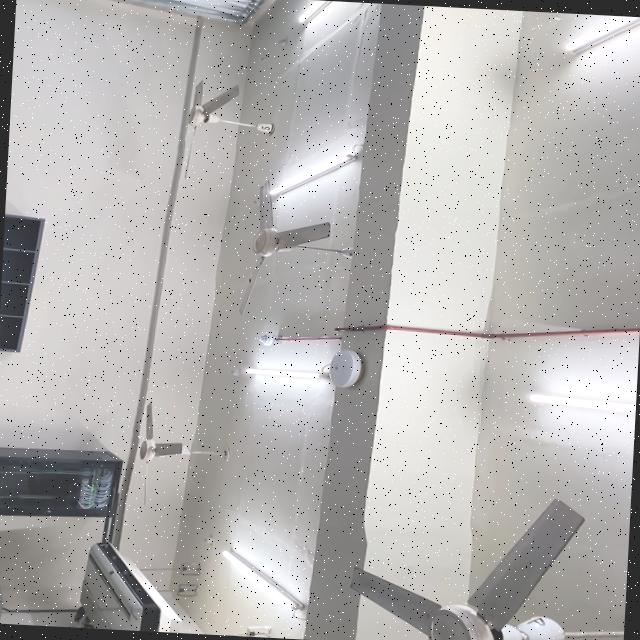Ac: (76, 541, 181, 633)
Light: (223, 550, 306, 619), (271, 144, 362, 195), (563, 15, 640, 53), (528, 394, 636, 413), (233, 368, 328, 378), (299, 0, 332, 24)
